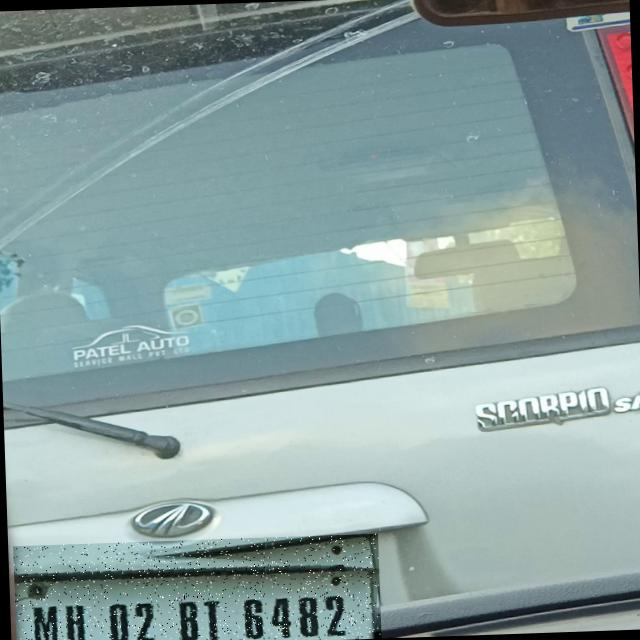Plate: (14, 534, 382, 640)
